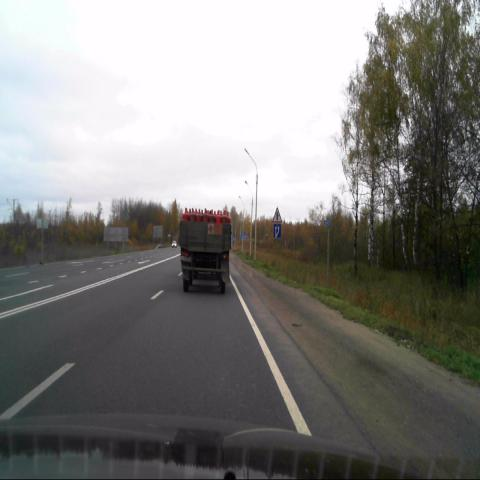2_3_2: (272, 206, 282, 222)
5_15_3: (273, 223, 281, 238)
